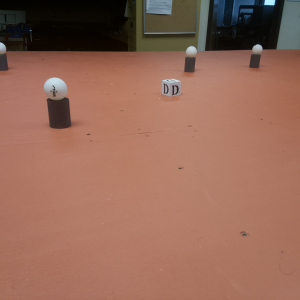obstacle: (45, 78, 72, 129), (185, 45, 196, 72), (250, 44, 261, 70), (1, 44, 10, 71)
